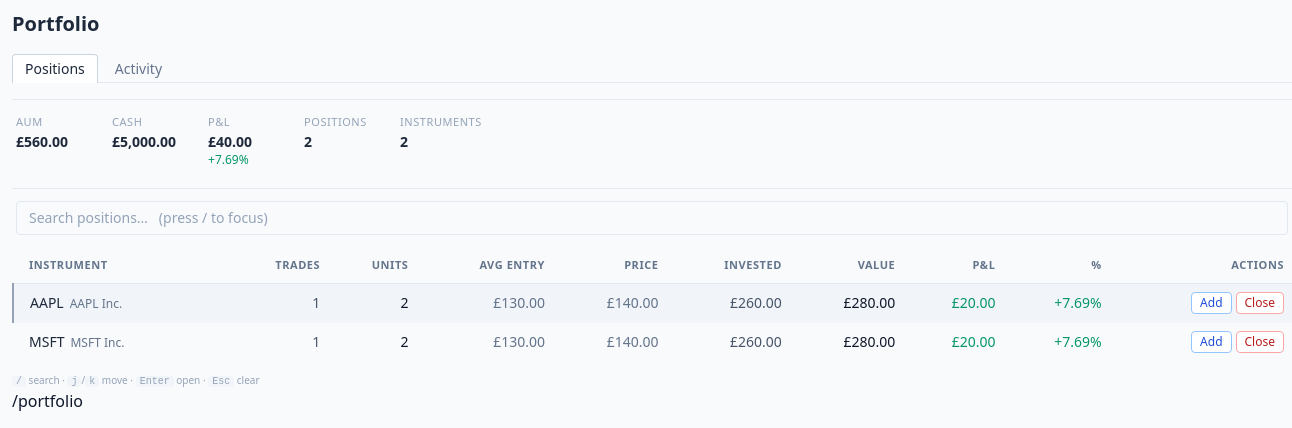
Scenario: PortfolioPage — search + pagination › shows 'No positions match' when search filters to zero rows
The width and height of the screenshot is (1292, 428).
Expected: the row with test id "position-row-7" is shown, x1=13 y1=284 x2=1291 y2=322
In the field labelled "Search positions": (652, 218) x1=16 y1=201 x2=1288 y2=235, type "ZZZZ"
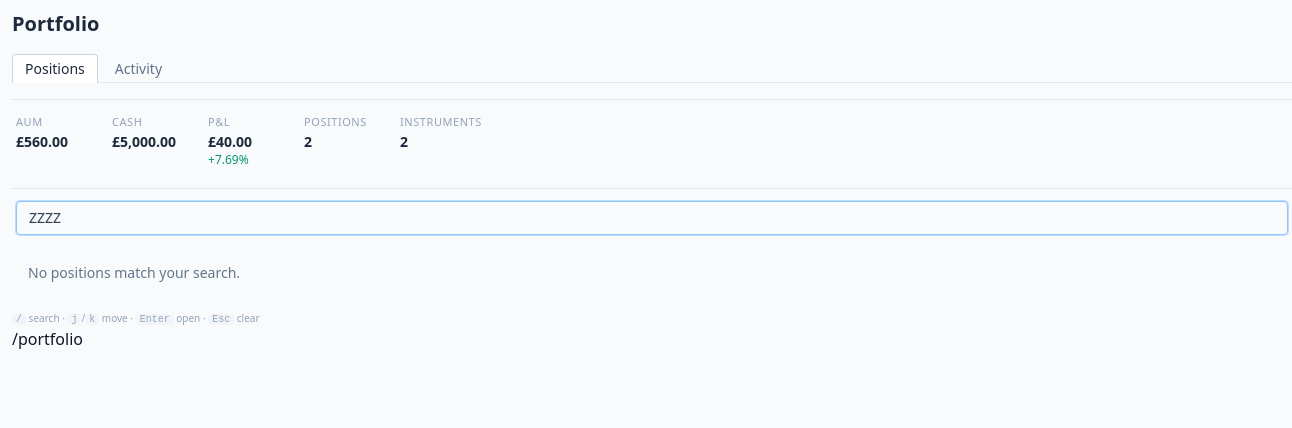
Expected: the text "No positions match your search." is shown, x1=28 y1=263 x2=240 y2=282
